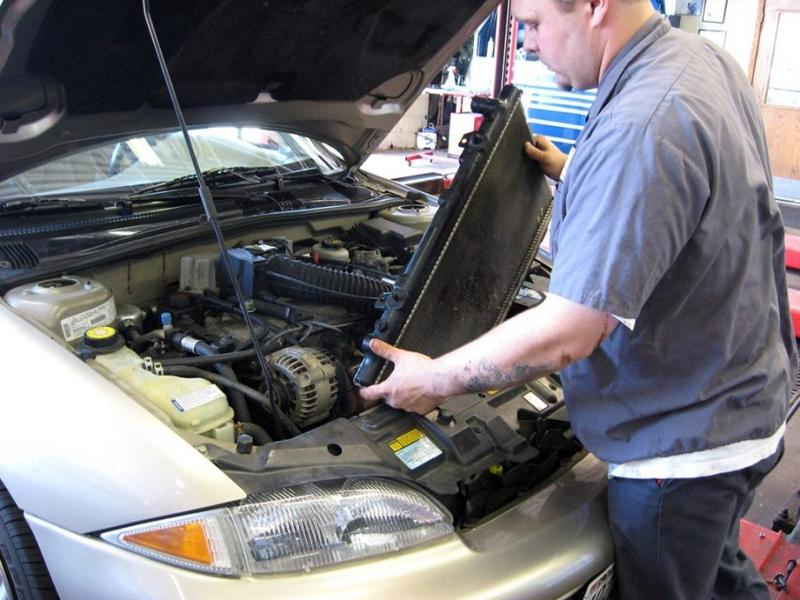person: (360, 3, 792, 599)
